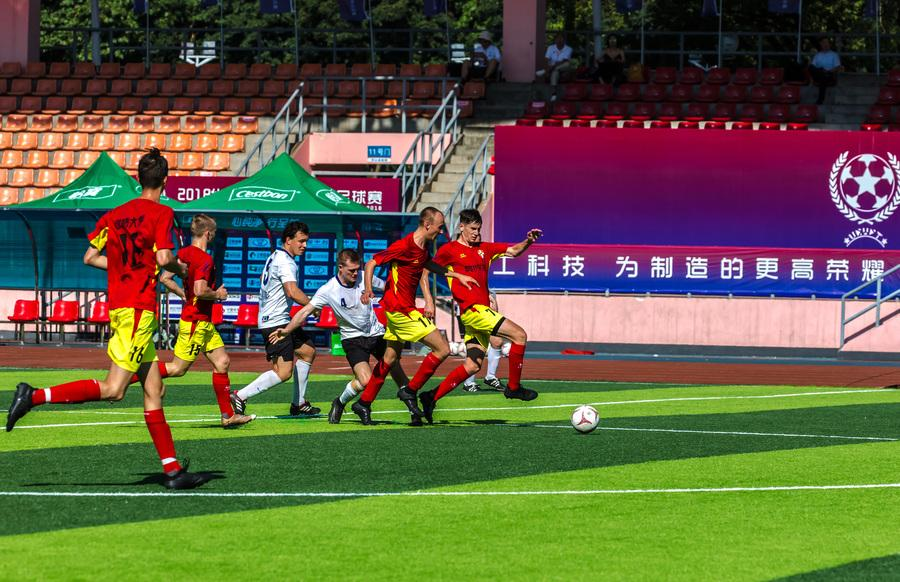football: (573, 406, 601, 432)
